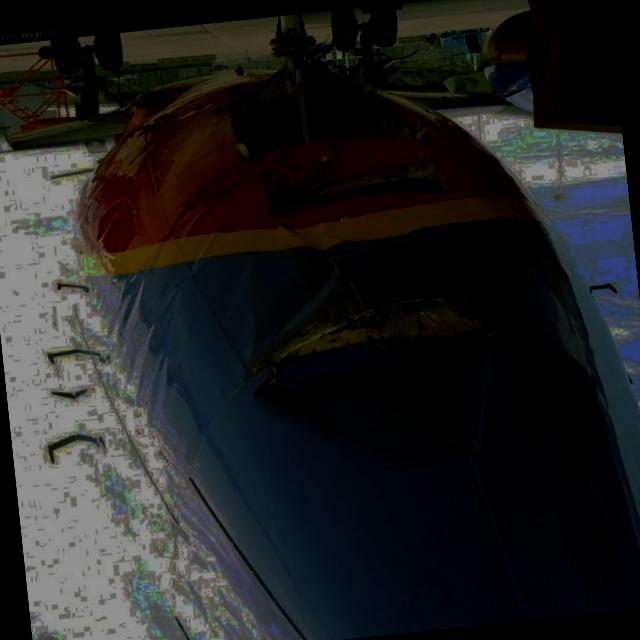dent: (249, 342, 512, 473), (256, 270, 346, 338)
